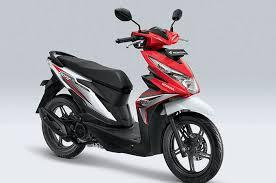motorcycle: (29, 3, 230, 183)
